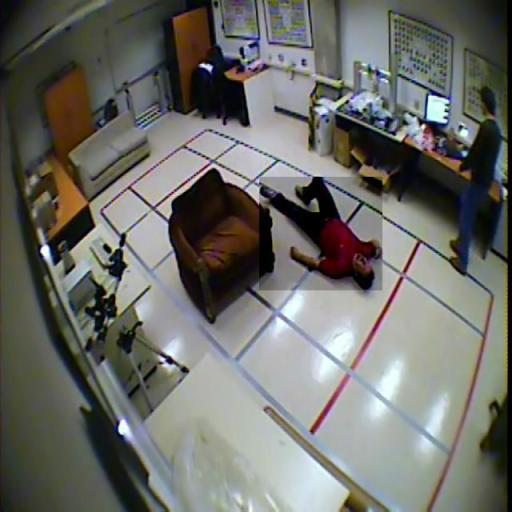Fall: (260, 178, 383, 293)
